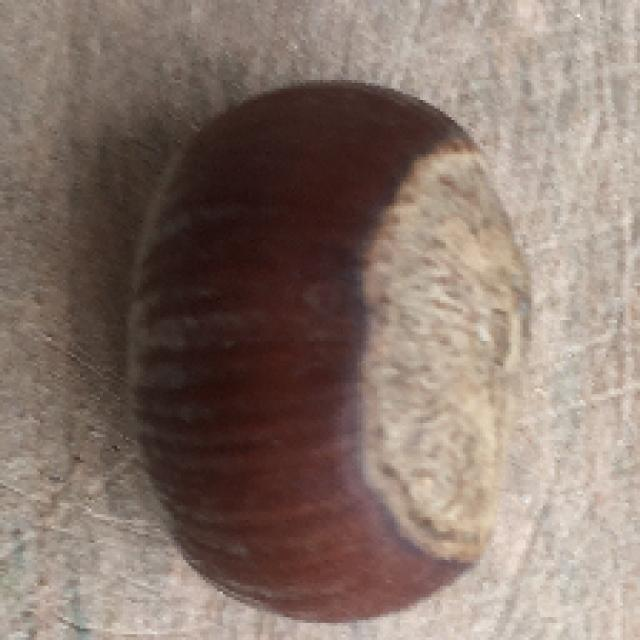DamagedHazelnut: (125, 88, 532, 619)
